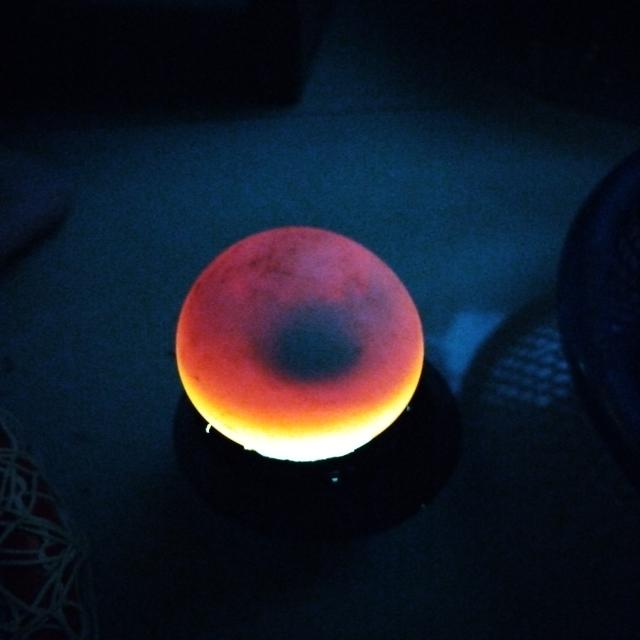Area Infectada: (245, 277, 392, 382)
